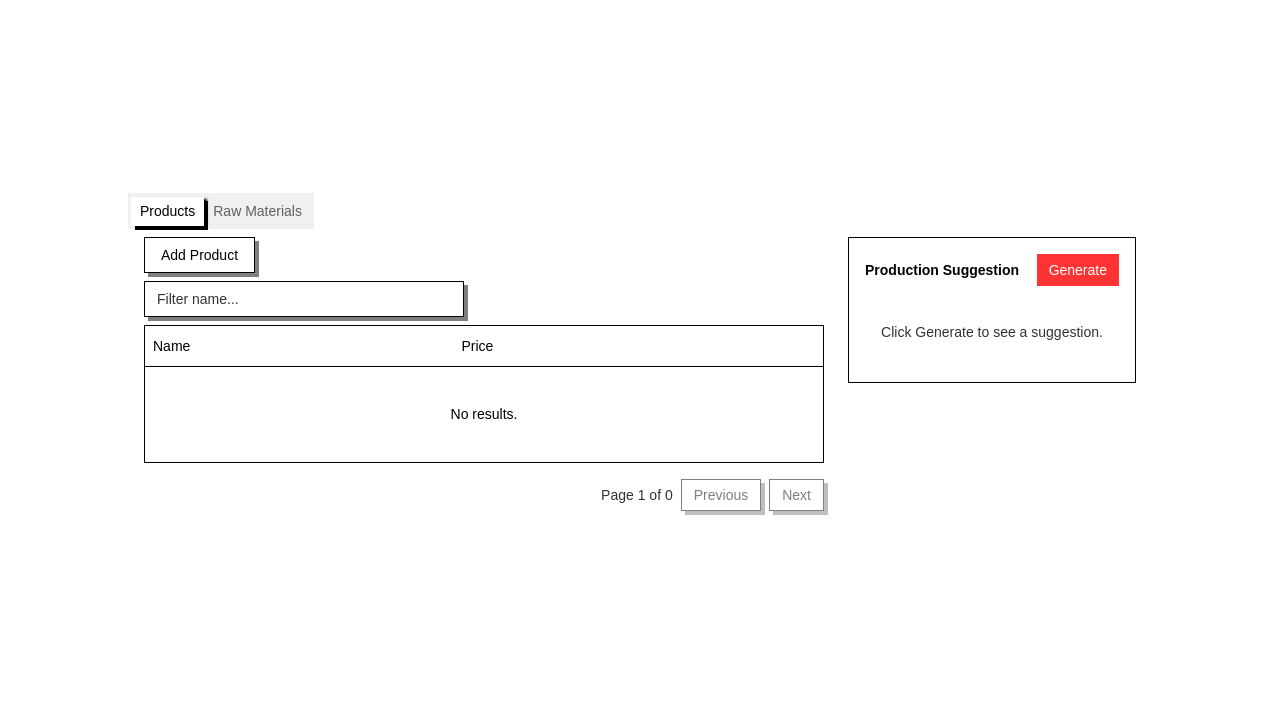
Scenario: Create Raw Material › should show error when name is empty
Click the tab with id "RawMaterialTrigger" at point(258, 212), box x1=204 y1=197 x2=311 y2=226
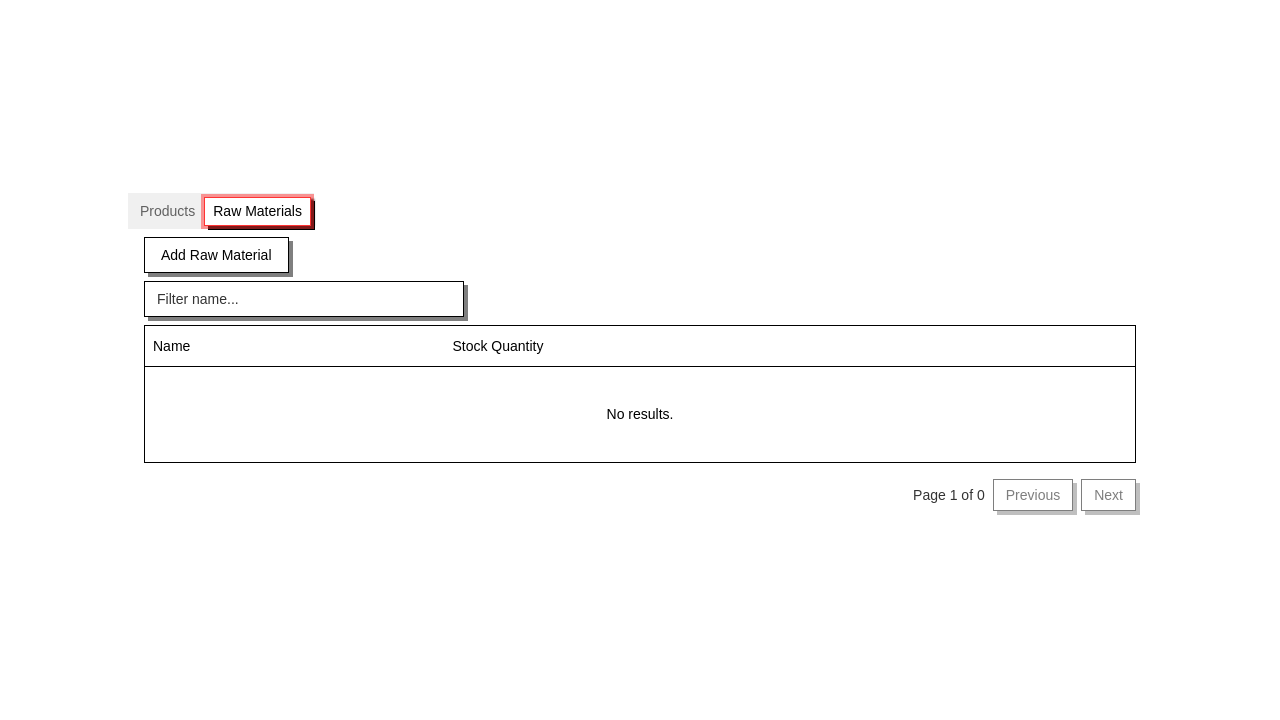
Click the button with id "AddRawMaterial" at point(217, 255), box x1=144 y1=237 x2=289 y2=273
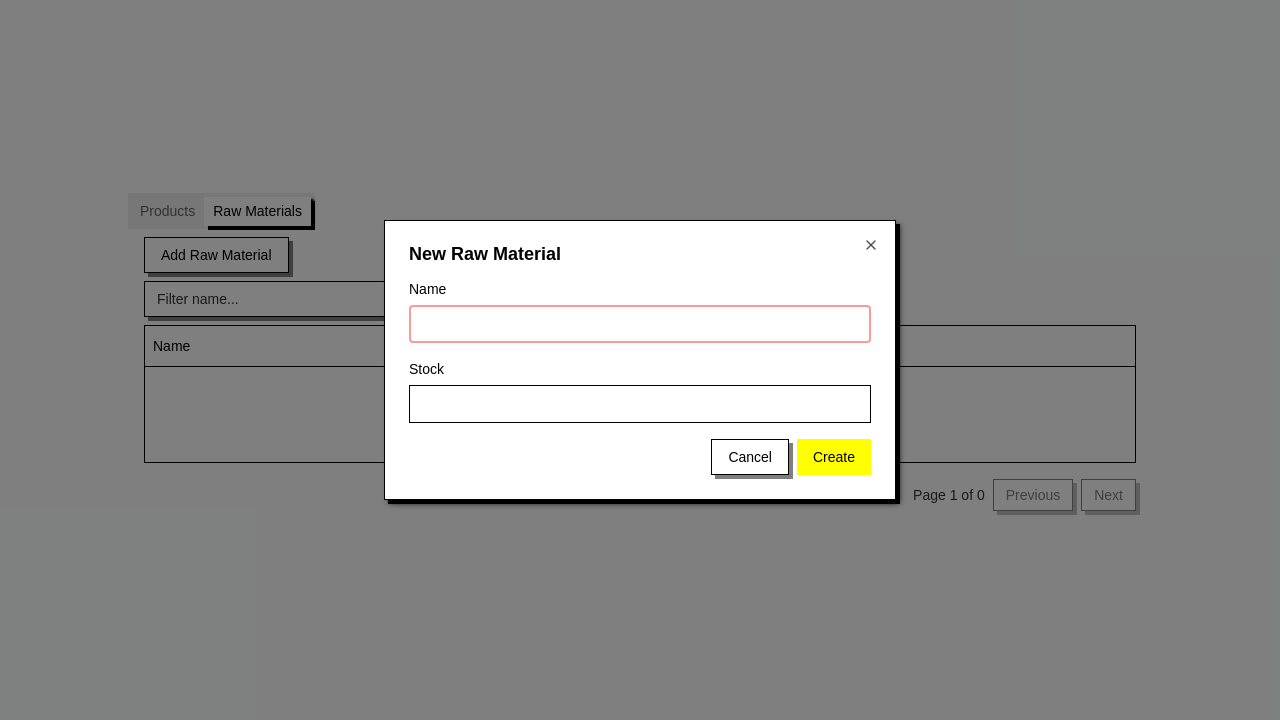
Type "100" into the number field with id "stockQuantity" at point(640, 404), box x1=409 y1=385 x2=871 y2=423
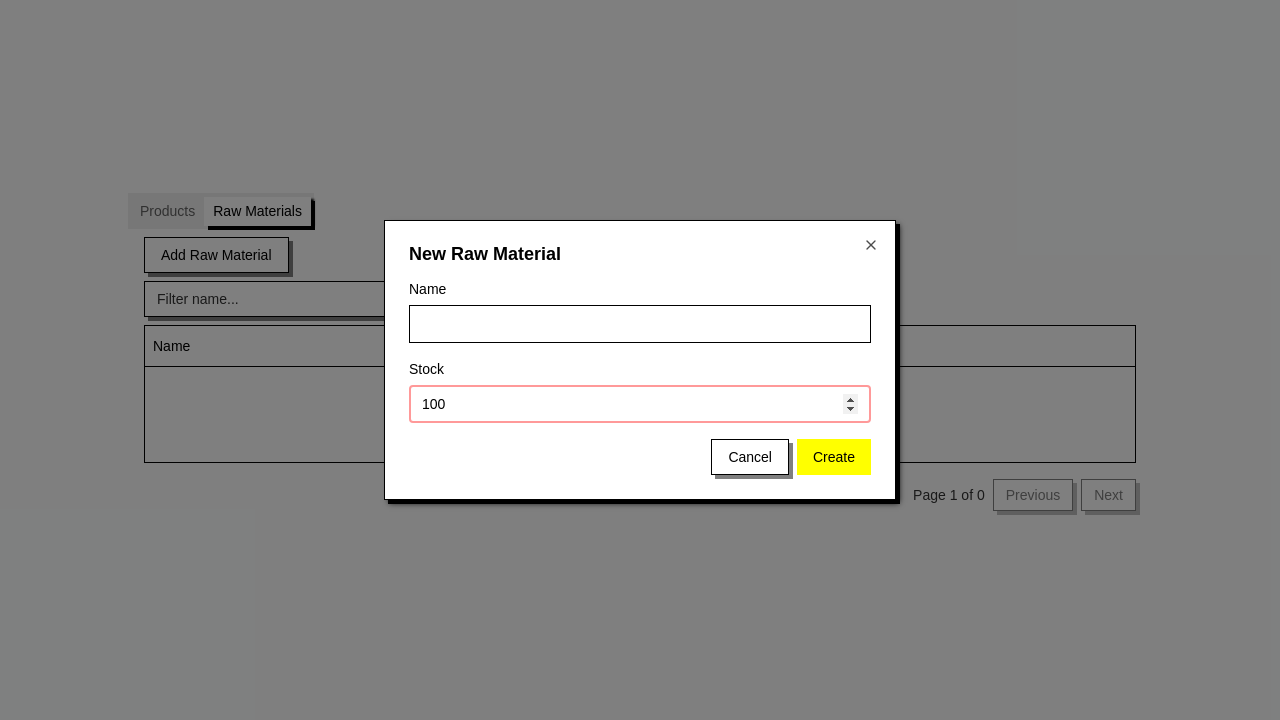
Click the button with id "btnSubmit" at point(834, 457), box x1=797 y1=439 x2=871 y2=475
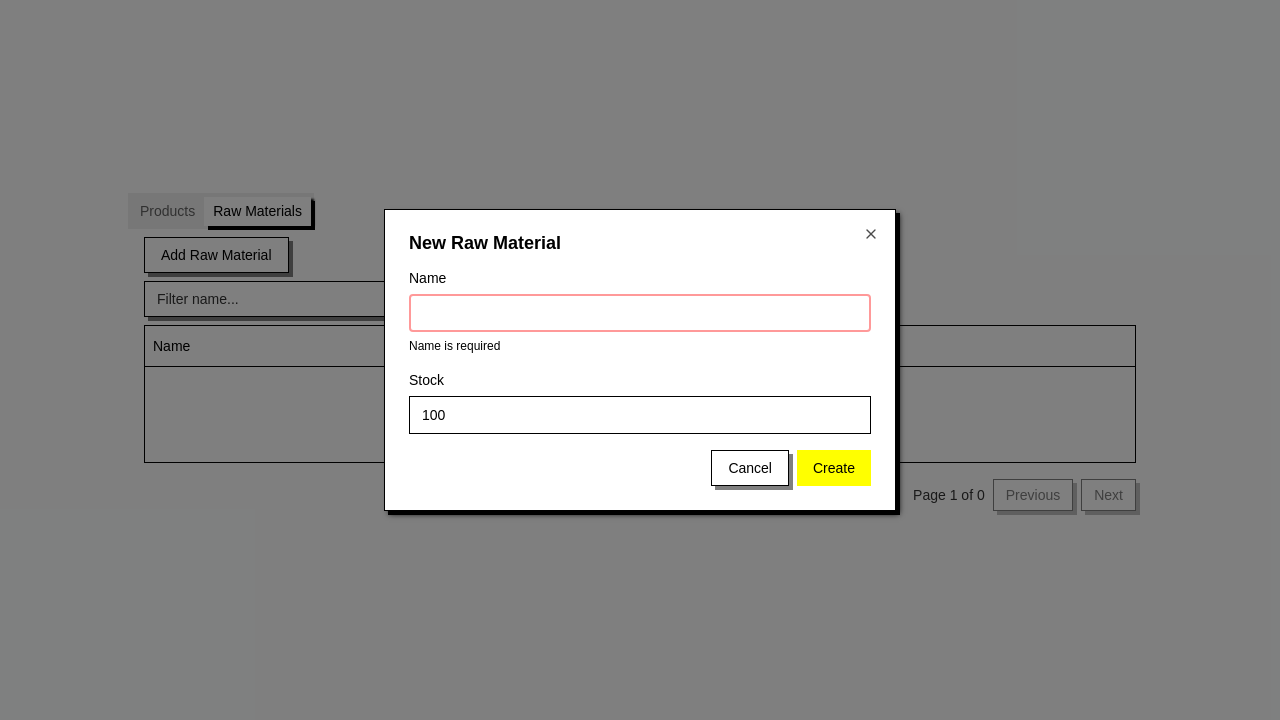
Check: the text "Name is required" is shown, box x1=409 y1=339 x2=500 y2=353
